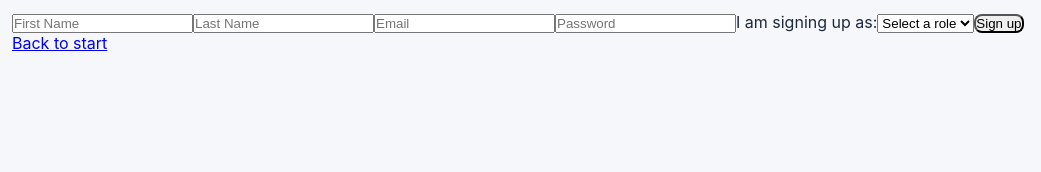
it: SignupForm › shows an error if role is not selected
Type "NoRole" into the field with placeholder "First Name" at (102, 24), box 12,14 -> 193,33
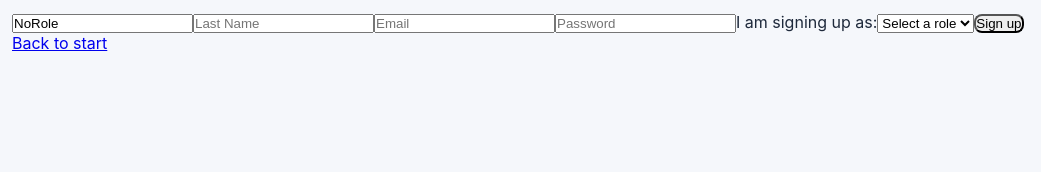
Type "User" into the field with placeholder "Last Name" at (284, 24), box 193,14 -> 374,33
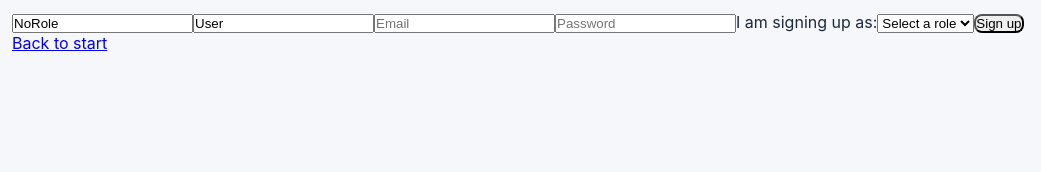
Type "norole@example.com" into the field with placeholder "Email" at (464, 24), box 374,14 -> 555,33
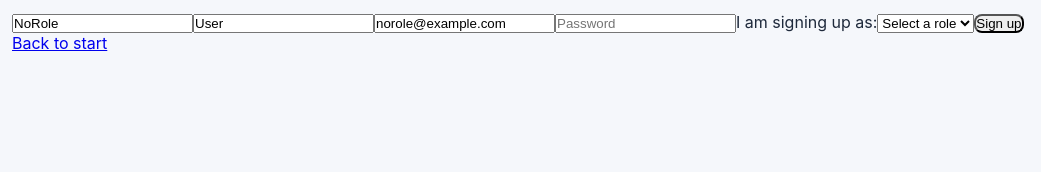
Type "password123" into the password field with placeholder "Password" at (646, 24), box 555,14 -> 736,33
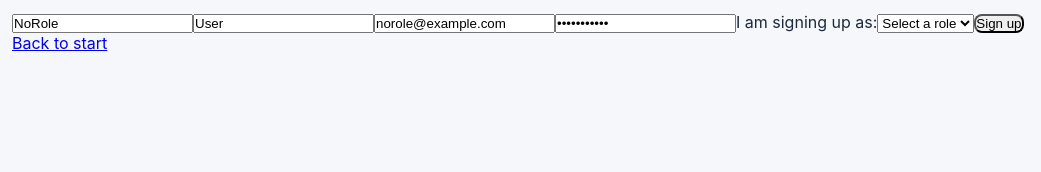
Submit the form "I am signing up as: Sign up", box 12,12 -> 1024,33
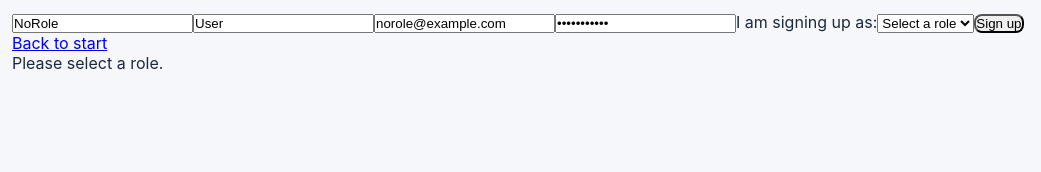
expect the text "Please select a role." is shown: met, box 12,53 -> 163,73
